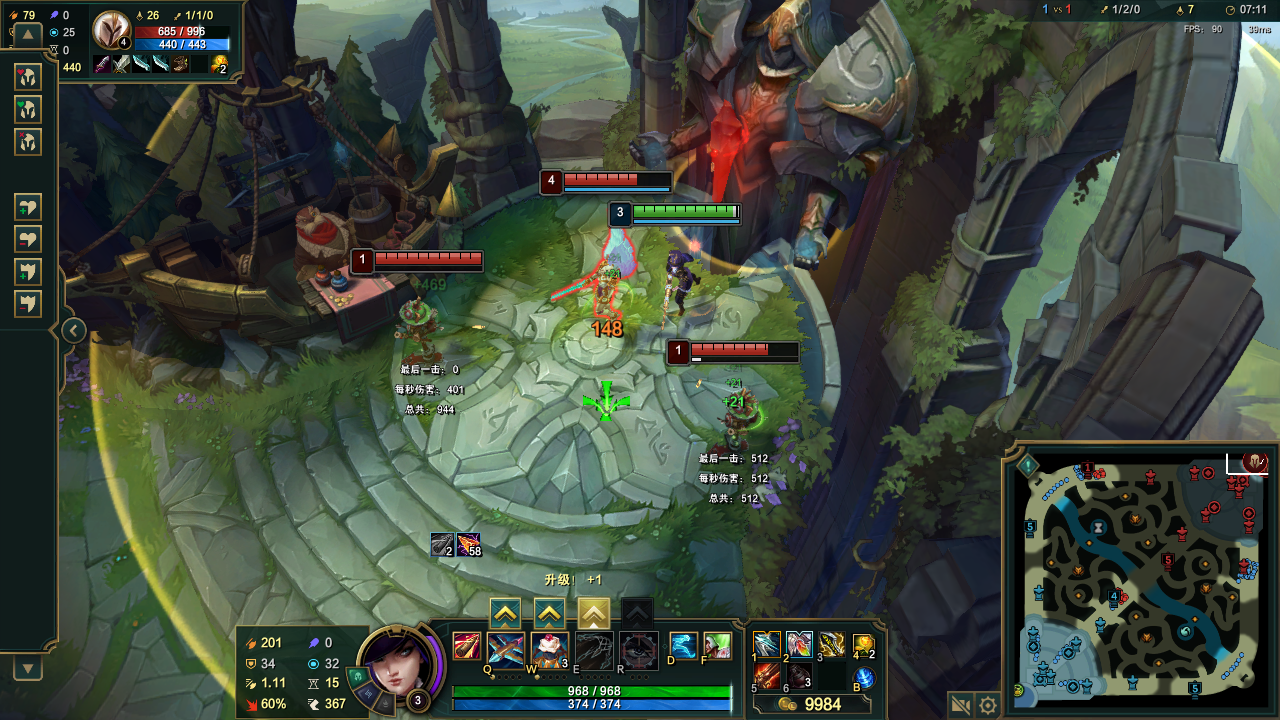DFYX: (565, 173, 674, 189), (689, 342, 798, 354), (375, 251, 484, 261)
